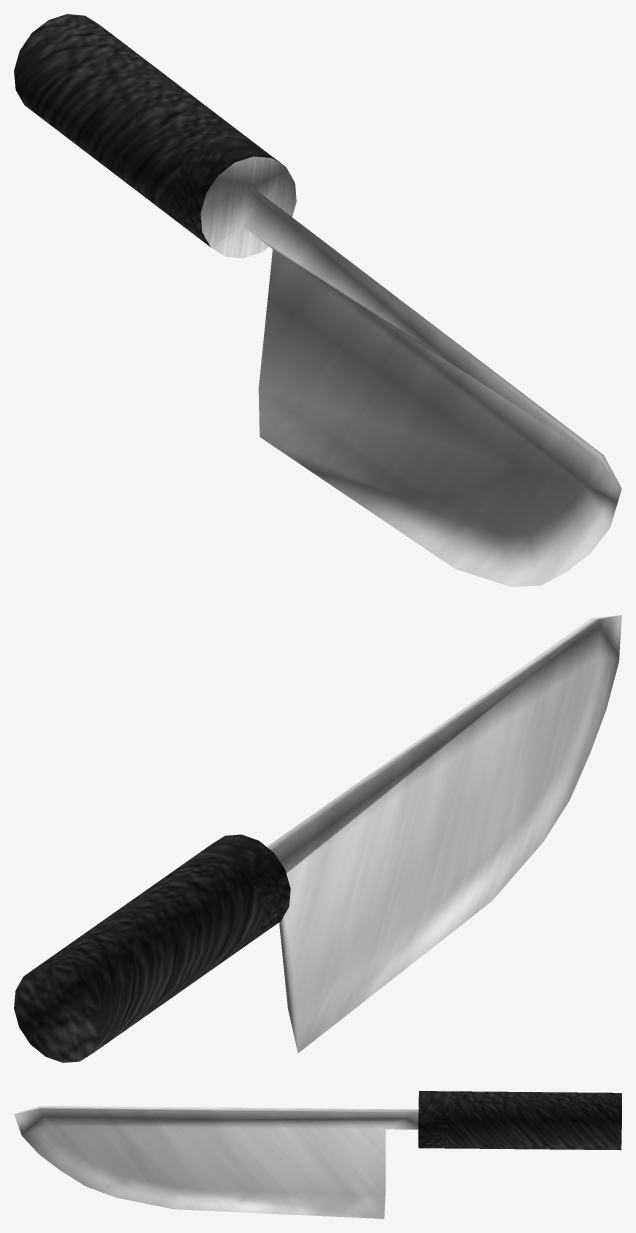
The model's file is cuchillo.obj.
3 renders of one model, top to bottom at view 1: azimuth 30°, elevation 25°; view 2: azimuth 150°, elevation 25°; view 3: azimuth 270°, elevation 25°, orthographic. The views are drawn at different scales.
Parts seen in each view (by area): view 1: cuchillo; view 2: cuchillo; view 3: cuchillo.
Part boxes in pixels (x1,y1,x2,y2): cuchillo: (14, 14, 621, 586); cuchillo: (14, 615, 621, 1062); cuchillo: (14, 1091, 621, 1218).
Bounding box in the file's own units: 0.4269 × 1 × 4.22.
